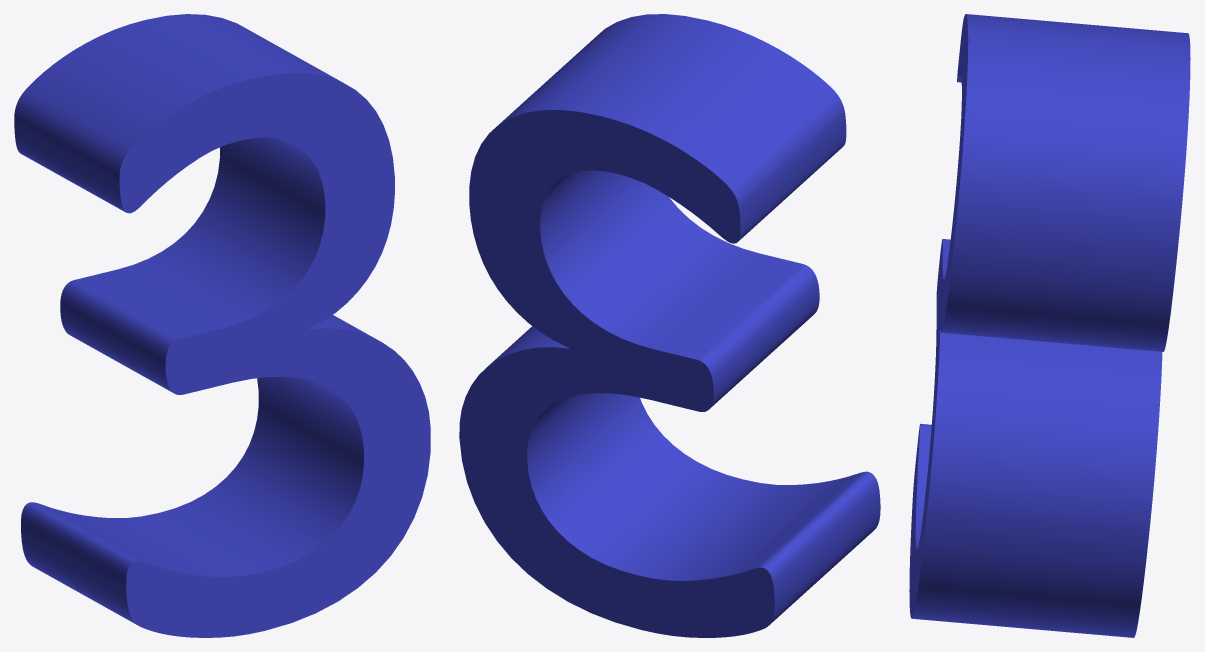
The picture shows the model from 3 angles, left to right: view 1: azimuth 30°, elevation 25°; view 2: azimuth 150°, elevation 25°; view 3: azimuth 270°, elevation 25°; orthographic projection. The views are drawn at different scales.
Visible parts, largest first — view 1: node_id110; view 2: node_id110; view 3: node_id110.
Part boxes in pixels (bbox=[...]): node_id110: bbox=[14, 14, 430, 637]; node_id110: bbox=[459, 14, 880, 637]; node_id110: bbox=[909, 14, 1190, 637].
Bounding box in the file's own units: 0.0253 × 0.0428 × 0.0189.
Materials: 1 (1 with a texture image).
